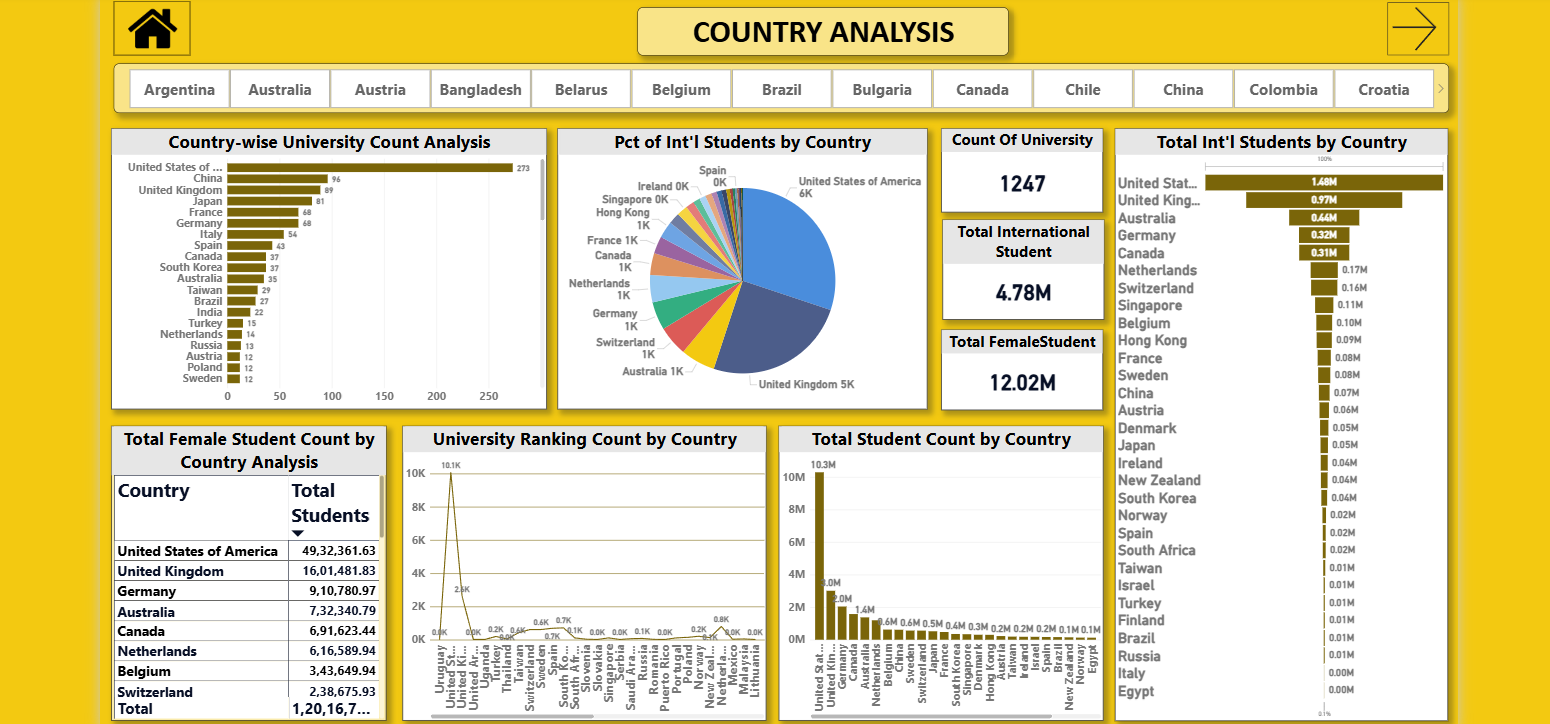

Layout of this report page (visuals, bound fields, positions):
{"tool":"powerbi","page":{"name":"Country Analysis","canvas":[2500,1350],"ordinal":1},"visuals":[{"type":"clusteredBarChart","title":"Country-wise University Count Analysis","fields":{"Category":["country.country_name"],"Y":["CountNonNull(university.university_name)"]},"box":[19.8,242.8,801.9,516.7],"z":0},{"type":"funnel","title":"Total Int''l Students by Country","fields":{"Category":["country.country_name"],"Y":["Sum(university_year.Total_Int_Student)"]},"box":[1869.1,243,613.2,1090.1],"z":1000},{"type":"pivotTable","title":"Total Female Student Count by Country Analysis","fields":{"Rows":["country.country_name"],"Values":["Sum(university_year.Total_female_student)"]},"box":[20.4,790.3,506.5,542.8],"z":2000},{"type":"lineChart","title":" University Ranking Count by Country","fields":{"Category":["country.country_name"],"Y":["CountNonNull(university_ranking_year.ranking_criteria_id)"]},"box":[556.4,790.3,670,542.8],"z":3000},{"type":"image","box":[25,9.1,140.8,99.9],"z":4000},{"type":"actionButton","box":[2368.7,11.4,113.6,97.7],"z":5000},{"type":"textbox","box":[990.2,20.4,683.6,88.6],"z":6000},{"type":"pieChart","title":"Pct of Int''l Students by Country","fields":{"Category":["country.country_name"],"Y":["Sum(university_year.pct_international_students)"]},"box":[841.4,242.8,680.5,516.7],"z":7000},{"type":"clusteredColumnChart","title":"Total Student Count by Country","fields":{"Category":["country.country_name"],"Y":["Sum(university_year.num_students)"]},"box":[1249.1,790.3,597.3,542.8],"z":8000},{"type":"card","title":"Count Of University","fields":{"Values":["Count(university.university_name)"]},"box":[1548.9,243,297.5,154.4],"z":9000},{"type":"card","title":"Total International Student","fields":{"Values":["Sum(university_year.Total_Int_Student)"]},"box":[1551.1,411.1,297.5,184],"z":10000},{"type":"card","title":"Total FemaleStudent","fields":{"Values":["Sum(university_year.Total_female_student)"]},"box":[1548.9,613.2,297.5,147.6],"z":11000},{"type":"slicer","title":"Select Country","fields":{"Values":["country.country_name"]},"box":[25,124.9,2457.3,90.8],"z":12001}]}

Visuals, with their boxes on the page's 2500x1350 design canvas (x1, y1, x2, y2). These are canvas units, not pixel positions in the 1550x724 screenshot, which may show the page scaled, cropped or inside an application window:
"Country-wise University Count Analysis" clusteredBarChart: <box>20,243,822,760</box>
"Total Int''l Students by Country" funnel: <box>1869,243,2482,1333</box>
"Total Female Student Count by Country Analysis" pivotTable: <box>20,790,527,1333</box>
" University Ranking Count by Country" lineChart: <box>556,790,1226,1333</box>
image: <box>25,9,166,109</box>
actionButton: <box>2369,11,2482,109</box>
textbox: <box>990,20,1674,109</box>
"Pct of Int''l Students by Country" pieChart: <box>841,243,1522,760</box>
"Total Student Count by Country" clusteredColumnChart: <box>1249,790,1846,1333</box>
"Count Of University" card: <box>1549,243,1846,397</box>
"Total International Student" card: <box>1551,411,1849,595</box>
"Total FemaleStudent" card: <box>1549,613,1846,761</box>
"Select Country" slicer: <box>25,125,2482,216</box>
